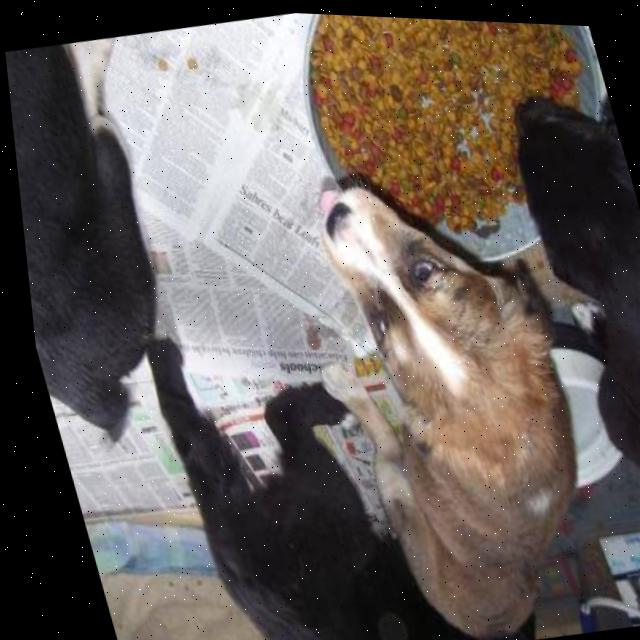dogs: (276, 156, 640, 640), (98, 262, 448, 640), (3, 33, 196, 410), (498, 33, 640, 491)
